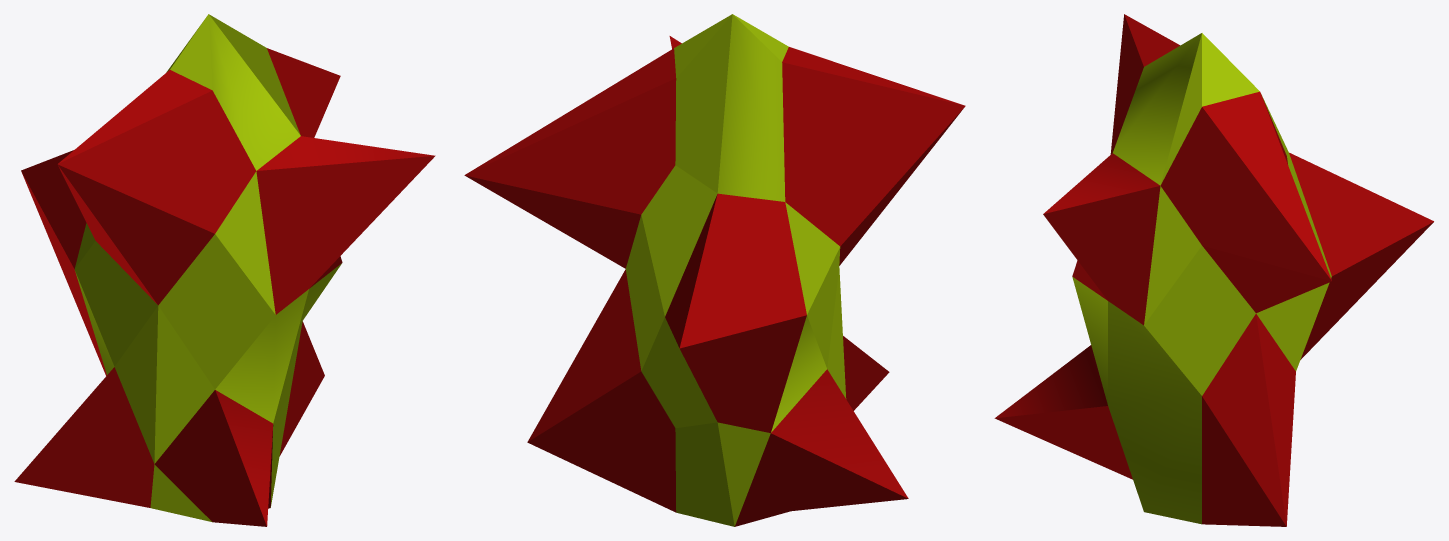
Rendered from plantapuas.fbx.
The picture shows the model from 3 angles, left to right: view 1: azimuth 30°, elevation 25°; view 2: azimuth 150°, elevation 25°; view 3: azimuth 270°, elevation 25°; orthographic projection. The views are drawn at different scales.
Parts seen in each view (by area): view 1: pPlatonic1; view 2: pPlatonic1; view 3: pPlatonic1.
Part boxes in pixels (box(x1,y1,x2,y2)): pPlatonic1: box(14, 14, 435, 526); pPlatonic1: box(464, 14, 965, 526); pPlatonic1: box(994, 14, 1433, 526).
Bounding box in the file's own units: 191 × 224 × 192.
